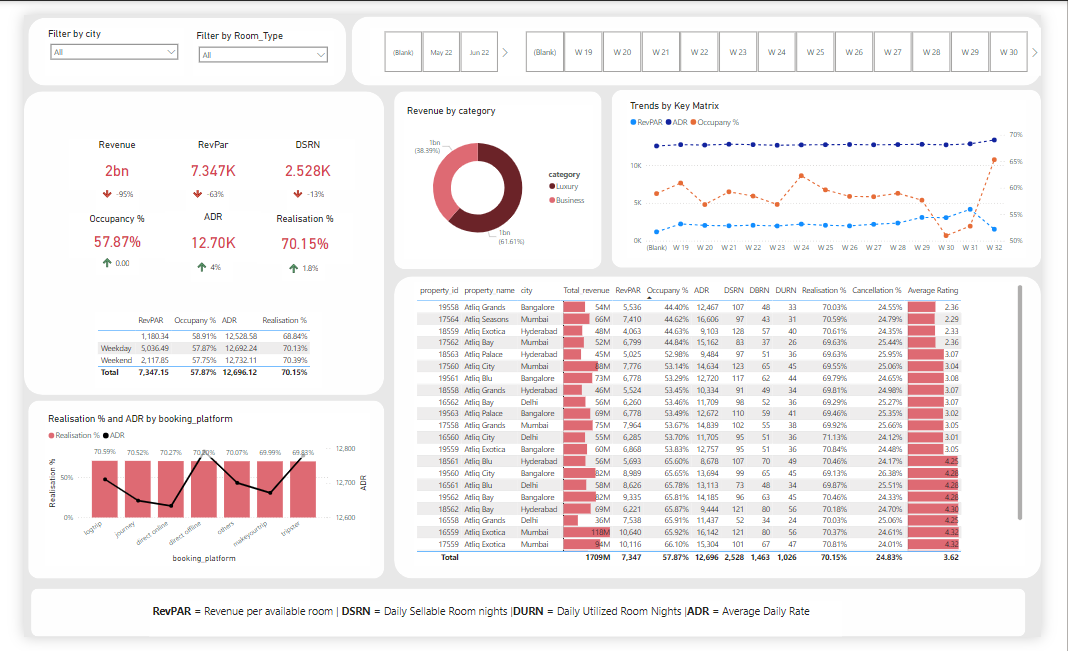

The page's visual inventory and layout, read from the dashboard file:
{"tool":"powerbi","page":{"name":"Page 1","canvas":[1800,1100],"ordinal":0},"visuals":[{"type":"shape","box":[12.5,1015,1760,85],"z":0},{"type":"shape","box":[655,462.5,1145,535],"z":1000},{"type":"shape","box":[655,135,367.5,315],"z":2000},{"type":"shape","box":[1040,132.5,760,315],"z":3000},{"type":"shape","box":[7.5,682.5,630,315],"z":4000},{"type":"shape","box":[0,135,637.5,537.5],"z":5000},{"type":"shape","box":[7.5,5.8,562.5,120],"z":6000},{"type":"tableEx","fields":{"Values":["key_measures.Occupany wow change %"]},"box":[126.4,394.2,75.8,65.8],"z":7000},{"type":"tableEx","fields":{"Values":["key_measures.ADR wow change %"]},"box":[295.3,401.5,76.1,69.3],"z":8000},{"type":"tableEx","fields":{"Values":["key_measures.Realisation WoW change %"]},"box":[457.5,404.9,76.1,65.9],"z":9000},{"type":"tableEx","fields":{"Values":["key_measures.DSRN WoW change %"]},"box":[466,273,76.1,74.4],"z":10000},{"type":"tableEx","fields":{"Values":["key_measures.Revpar WoW change %"]},"box":[288.5,271.3,76.1,74.4],"z":11000},{"type":"tableEx","fields":{"Values":["dim_hotels.property_id","dim_hotels.property_name","dim_hotels.city","key_measures.Total_revenue","key_measures.RevPAR","key_measures.Occupany %","key_measures.ADR","key_measures.DSRN","key_measures.DBRN","key_measures.DURN","key_measures.Realisation %","key_measures.Cancellation %"]},"box":[690,472.5,1082.5,502.5],"z":12000},{"type":"slicer","title":"Filter by city","fields":{"Values":["dim_hotels.city"]},"box":[37.5,23.3,245,85],"z":13000},{"type":"slicer","title":"Filter by Room_Type","fields":{"Values":["dim_rooms.room_class"]},"box":[300,28.3,247.5,80],"z":14000},{"type":"tableEx","fields":{"Values":["key_measures.revenue wow change %"]},"box":[127.9,271.3,76.1,74.4],"z":15000},{"type":"card","title":"RevPar","fields":{"Values":["key_measures.RevPAR"]},"box":[249.6,218.9,169.1,89.6],"z":16000},{"type":"card","title":"Occupancy %","fields":{"Values":["key_measures.Occupany %"]},"box":[80.6,349.1,169.1,79.5],"z":17000},{"type":"card","title":"DSRN","fields":{"Values":["key_measures.DSRN"]},"box":[418.7,220.6,169.1,89.6],"z":18000},{"type":"card","title":"Revenue","fields":{"Values":["key_measures.Total_revenue"]},"box":[80.6,218.9,169.1,89.6],"z":19000},{"type":"card","title":"ADR","fields":{"Values":["key_measures.ADR"]},"box":[249.6,347.4,169.1,89.6],"z":20000},{"type":"card","title":"Realisation %","fields":{"Values":["key_measures.Realisation %"]},"box":[411.9,349.1,169.1,89.6],"z":21000},{"type":"donutChart","title":"Revenue by category","fields":{"Category":["dim_hotels.category"],"Y":["key_measures.Total_revenue"]},"box":[672.5,160,335,272.5],"z":22000},{"type":"lineChart","title":"Trends by Key Matrix","fields":{"Category":["dim_date.mmm yy.Variation.Date Hierarchy.Month","dim_date.week no"],"Y":["key_measures.RevPAR","key_measures.ADR"],"Y2":["key_measures.Occupany %"]},"box":[1067.5,150,705,280],"z":23000},{"type":"lineClusteredColumnComboChart","fields":{"Category":["fact_bookings.booking_platform"],"Y":["key_measures.Realisation %"],"Y2":["key_measures.ADR"]},"box":[37.5,705,575,270],"z":24000},{"type":"tableEx","fields":{"Values":["dim_date.day_type","key_measures.RevPAR","key_measures.Occupany %","key_measures.ADR","key_measures.Realisation %"]},"box":[124.7,526.2,402.5,135],"z":25000},{"type":"shape","box":[580,3.3,1220,122.5],"z":26000},{"type":"slicer","title":"Filter by Month","fields":{"Values":["dim_date.mmm yy"]},"box":[612.5,23.3,250,85],"z":27000},{"type":"slicer","fields":{"Values":["dim_date.week no"]},"box":[862.5,23.3,937.5,85],"z":28000},{"type":"textbox","box":[222.5,1037.5,1225,62.5],"z":30000}]}

Visuals, with their boxes in screenshot pixels (x1, y1, x2, y2), scaled from the page's 1800x1100 canvas onto the 1068x651 screenshot:
shape: left=7, top=601, right=1052, bottom=650
shape: left=389, top=274, right=1067, bottom=590
shape: left=389, top=80, right=607, bottom=266
shape: left=617, top=78, right=1067, bottom=265
shape: left=4, top=404, right=378, bottom=590
shape: left=0, top=80, right=378, bottom=398
shape: left=4, top=3, right=338, bottom=74
tableEx - key_measures.Occupany wow change %: left=75, top=233, right=120, bottom=272
tableEx - key_measures.ADR wow change %: left=175, top=238, right=220, bottom=279
tableEx - key_measures.Realisation WoW change %: left=271, top=240, right=317, bottom=279
tableEx - key_measures.DSRN WoW change %: left=276, top=162, right=322, bottom=206
tableEx - key_measures.Revpar WoW change %: left=171, top=161, right=216, bottom=205
tableEx - dim_hotels.property_id x dim_hotels.property_name: left=409, top=280, right=1052, bottom=577
"Filter by city" slicer: left=22, top=14, right=168, bottom=64
"Filter by Room_Type" slicer: left=178, top=17, right=325, bottom=64
tableEx - key_measures.revenue wow change %: left=76, top=161, right=121, bottom=205
"RevPar" card: left=148, top=130, right=248, bottom=183
"Occupancy %" card: left=48, top=207, right=148, bottom=254
"DSRN" card: left=248, top=131, right=349, bottom=184
"Revenue" card: left=48, top=130, right=148, bottom=183
"ADR" card: left=148, top=206, right=248, bottom=259
"Realisation %" card: left=244, top=207, right=345, bottom=260
"Revenue by category" donutChart: left=399, top=95, right=598, bottom=256
"Trends by Key Matrix" lineChart: left=633, top=89, right=1052, bottom=254
lineClusteredColumnComboChart - fact_bookings.booking_platform x key_measures.Realisation %: left=22, top=417, right=363, bottom=577
tableEx - dim_date.day_type x key_measures.RevPAR: left=74, top=311, right=313, bottom=391
shape: left=344, top=2, right=1067, bottom=74
"Filter by Month" slicer: left=363, top=14, right=512, bottom=64
slicer - dim_date.week no: left=512, top=14, right=1067, bottom=64
textbox: left=132, top=614, right=859, bottom=650
